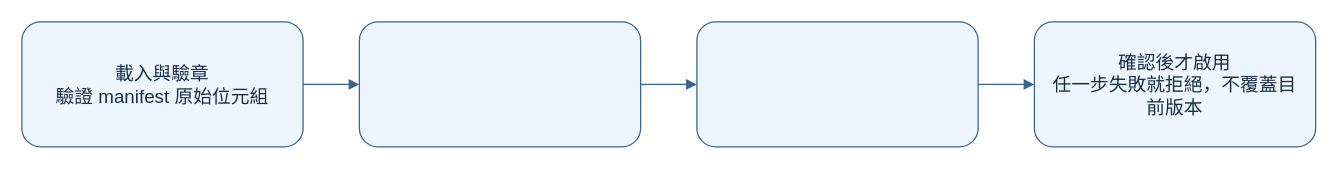
The diagram is 1338 pixels wide and 169 high, and some of its shapes have lost their labels. Here are the shapes that lost their labels. From the top down, the centre of each, then its label:
At (x=499, y=84): "檢查發行契約 核對目標、版本下限與時效".
At (x=837, y=84): "核對成品 位元組與 SHA-256 驗證".
